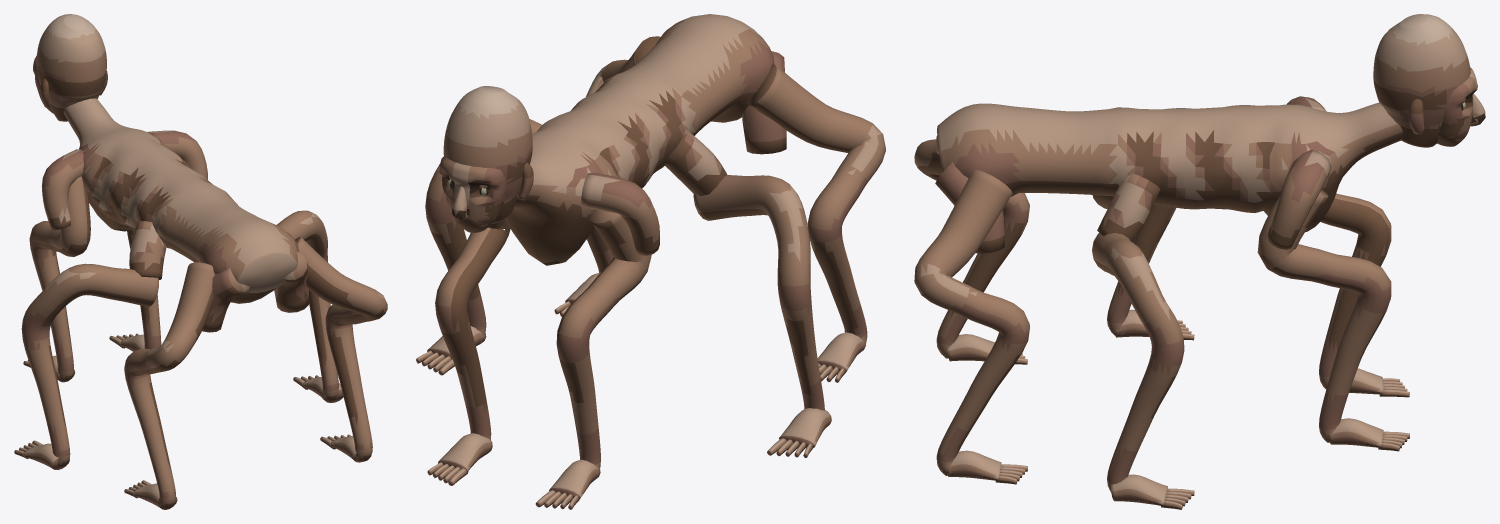
3 views of the same model, side by side, from view 1: azimuth 30°, elevation 25°; view 2: azimuth 150°, elevation 25°; view 3: azimuth 270°, elevation 25° (orthographic). The views are drawn at different scales.
Size of the model in its own units: 1.54 by 1.55 by 2.
